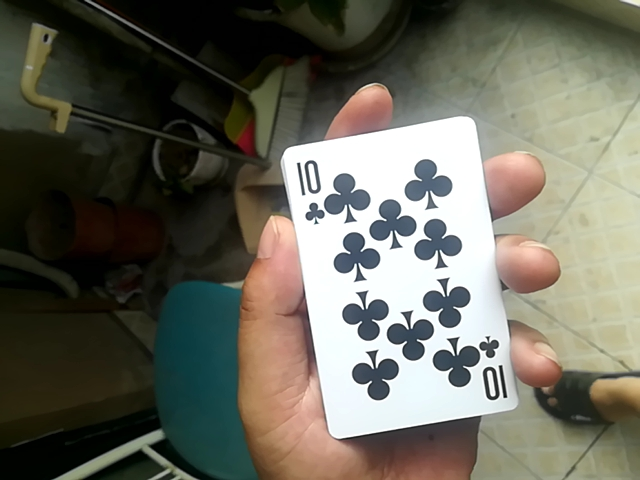mh 10: (288, 121, 527, 443)
